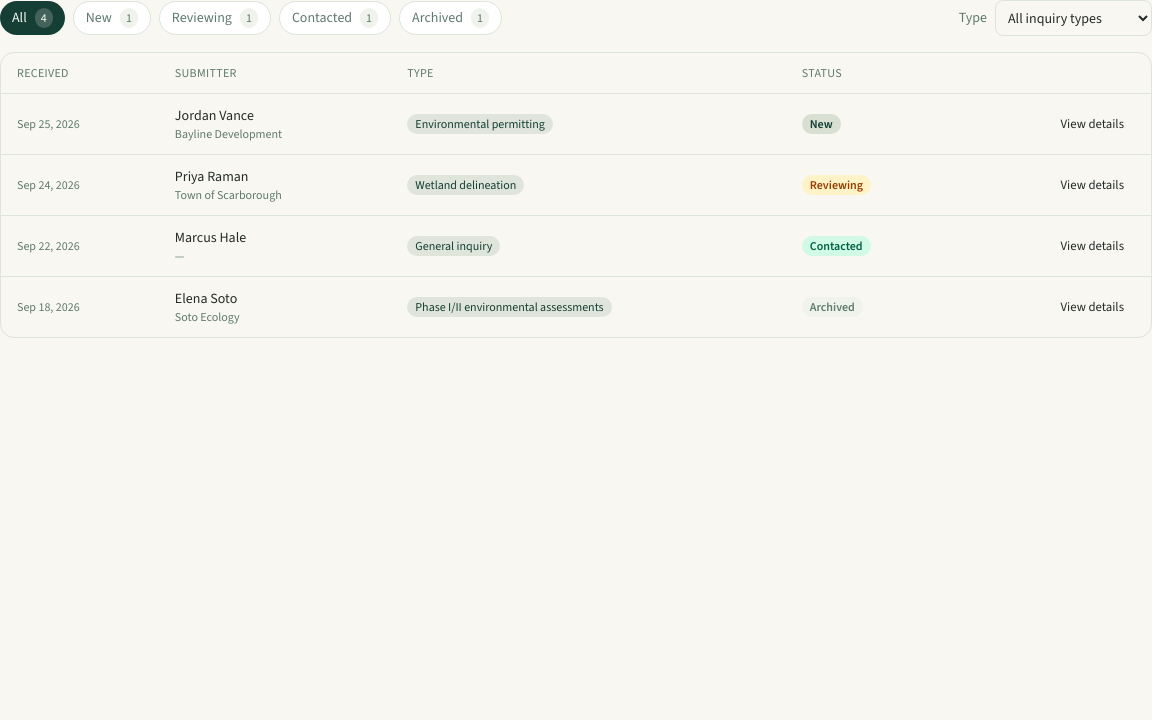
Test case: InquiryDetailDrawer › saves internal notes through the Server Action
Click the button with aria-label "View details for Jordan Vance": (1092, 124) [1050,110,1135,138]
(page scrolled)
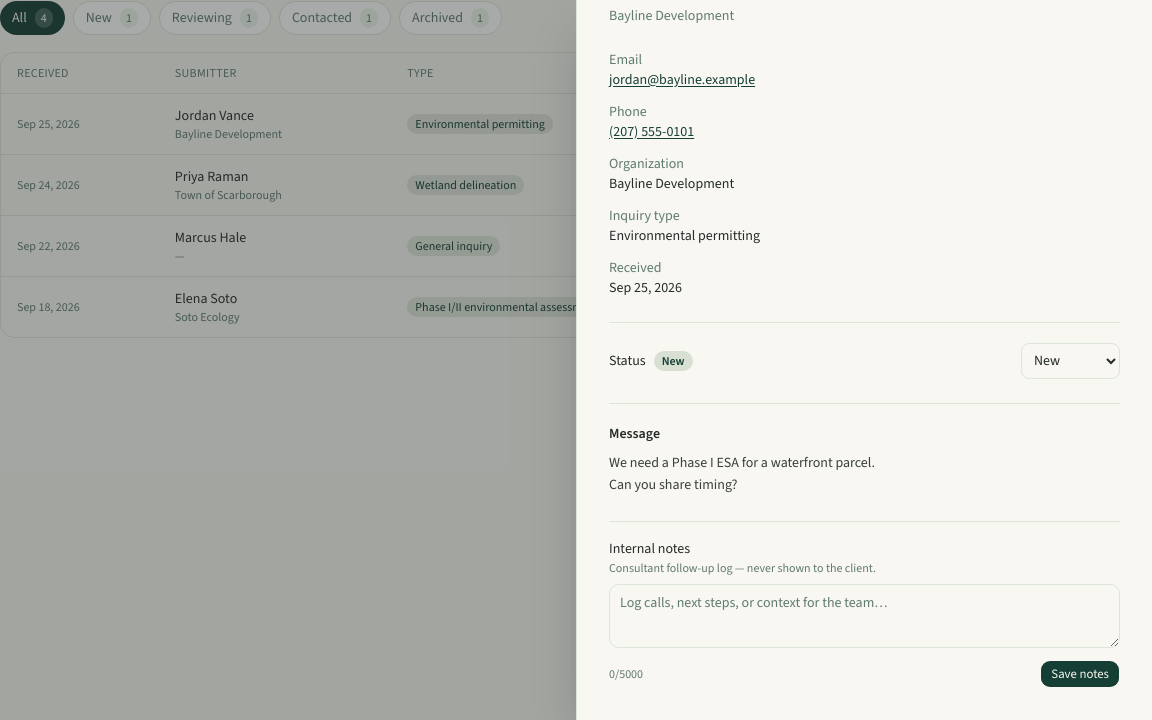
In the text box labelled "Internal notes": (864, 616) [609,584,1120,648], type "Proposal sent - follow up Monday."
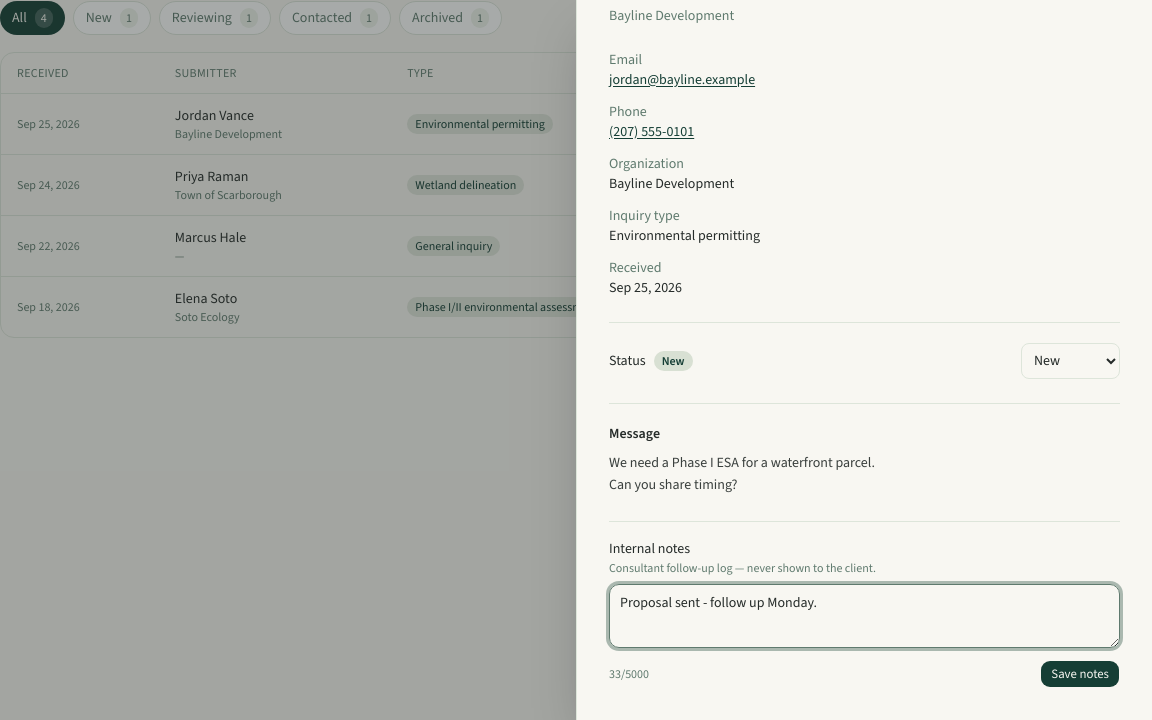
Click the button "Save notes": (1080, 674) [1040,660,1120,688]
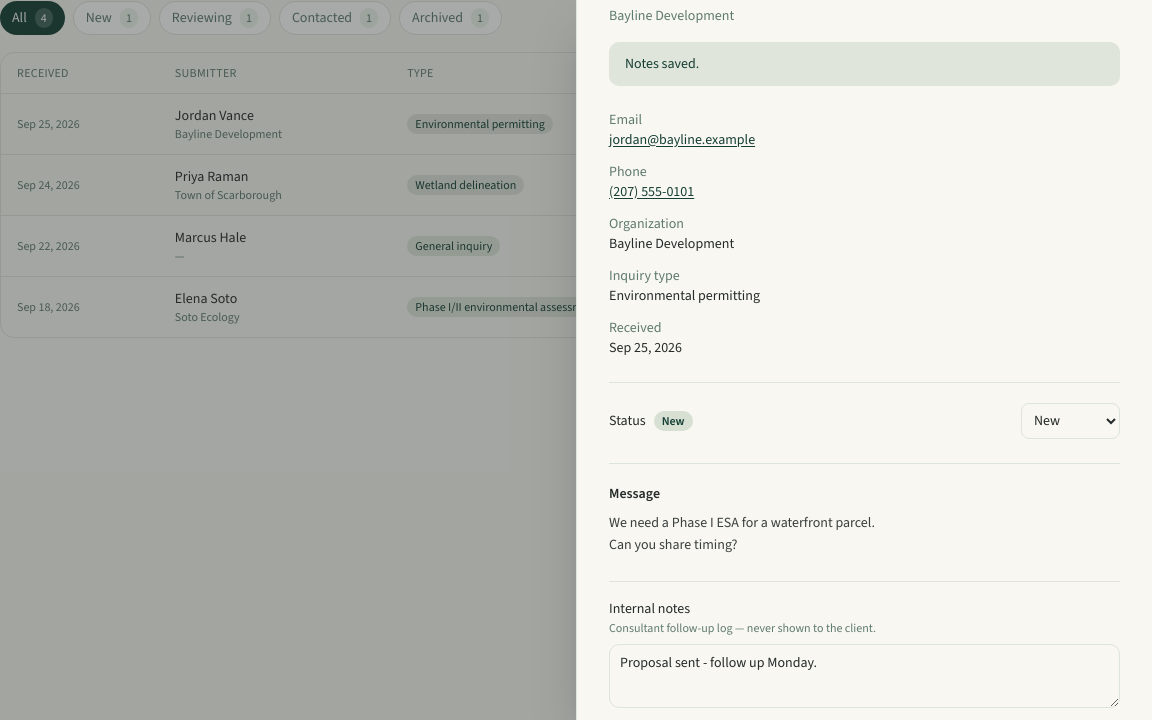
Check: the text "Notes saved." is shown, box [609,42,1120,86]
